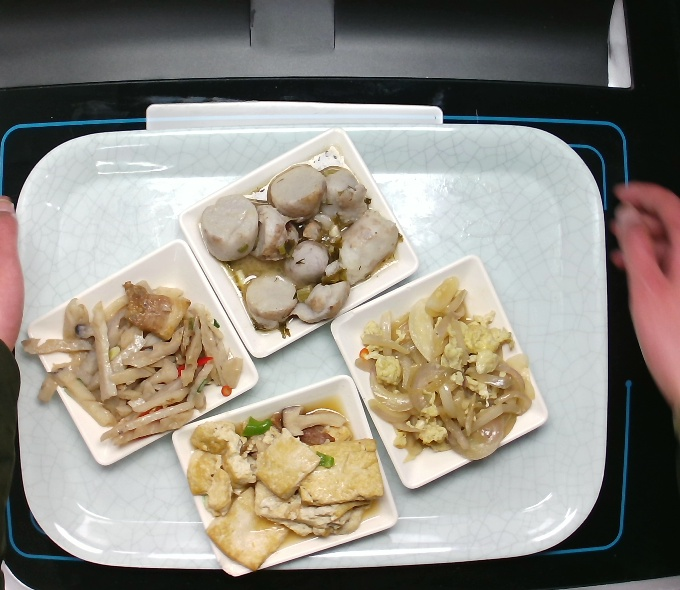wcq-JiaChangDouFu: (183, 413, 393, 575)
wcq-QingChaoOuPian: (29, 280, 247, 448)
wcq-YangCongChaoDan: (347, 272, 539, 468)
wcq-YangYu: (203, 160, 400, 332)
